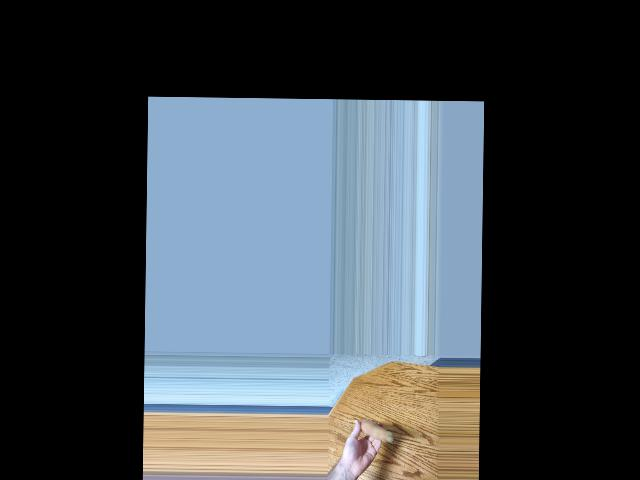sweet_potato: (357, 419, 394, 444)
